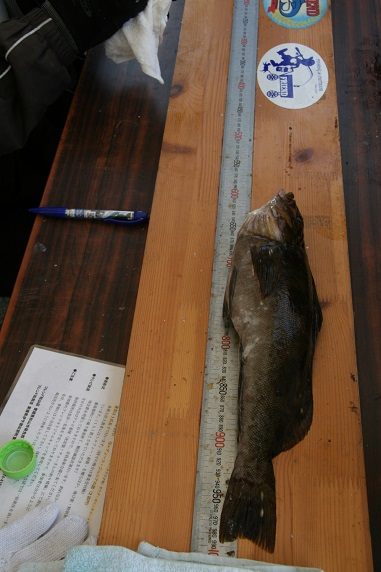kiss: (232, 186, 327, 547)
